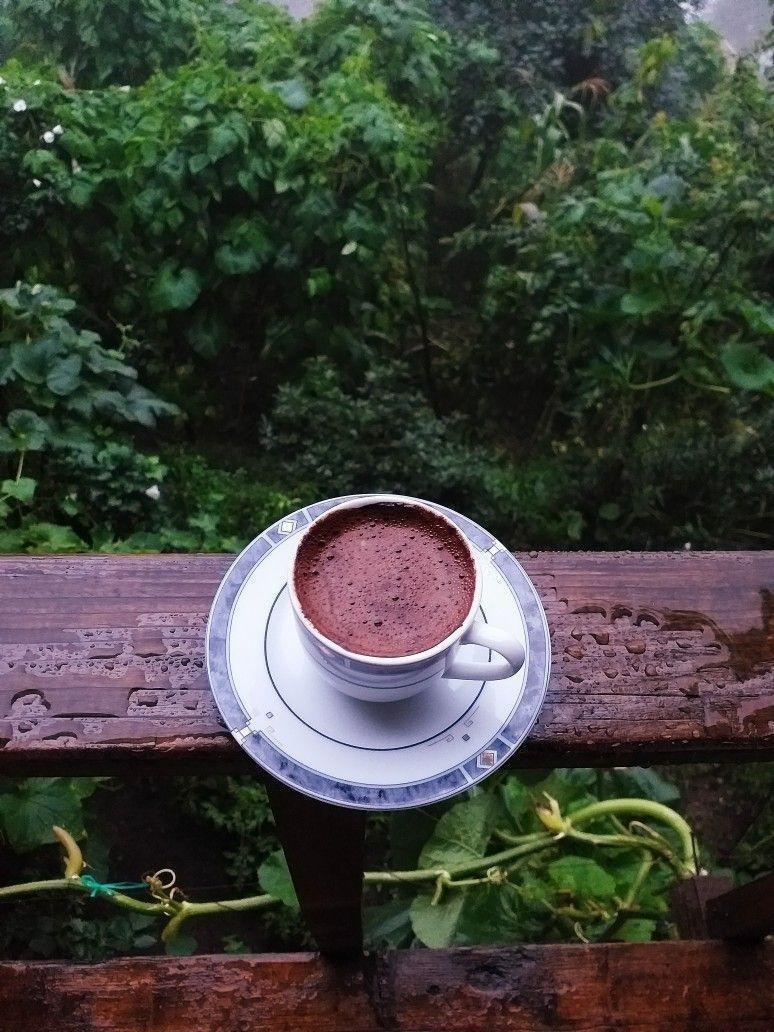cup-handle: (286, 491, 527, 705)
